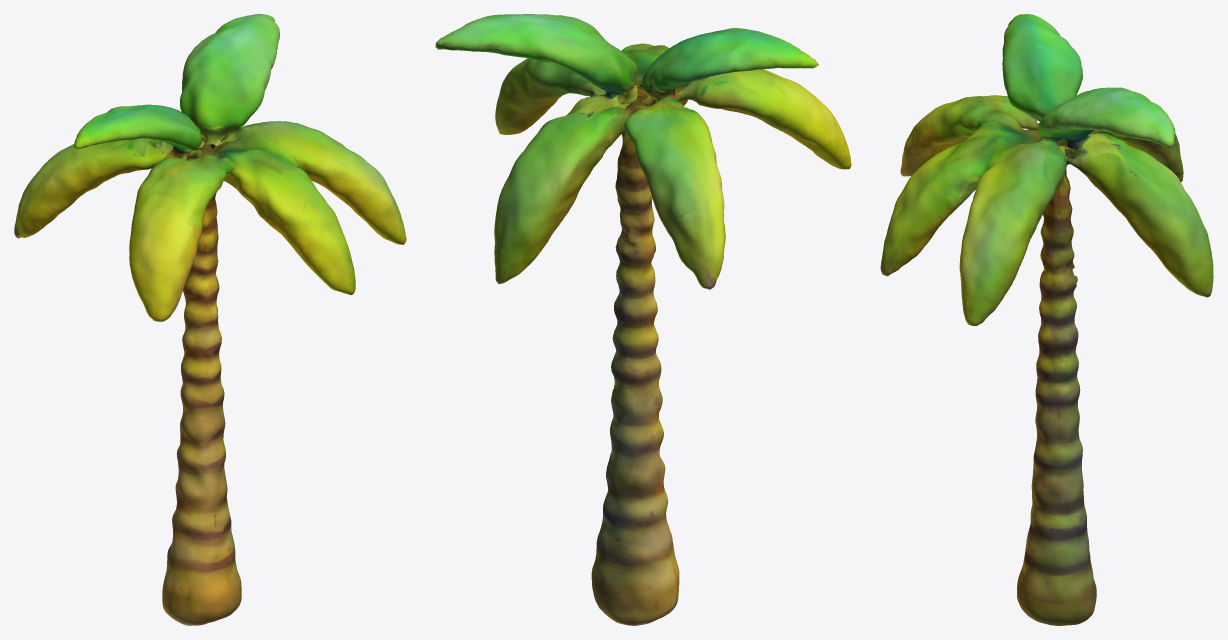
File: a_palm_tree_full_with_0713200723_refine.fbx
The picture shows the model from 3 angles, left to right: view 1: azimuth 30°, elevation 25°; view 2: azimuth 150°, elevation 25°; view 3: azimuth 270°, elevation 25°; orthographic projection. The views are drawn at different scales.
Visible parts, largest first — view 1: Mesh_0; view 2: Mesh_0; view 3: Mesh_0.
Part boxes in pixels (x1,y1,x2,y2): Mesh_0: (14, 14, 406, 625); Mesh_0: (435, 14, 851, 625); Mesh_0: (880, 14, 1213, 625).
Bounding box in the file's own units: 70.87 × 120 × 64.71.
1 material, 1 textured.
